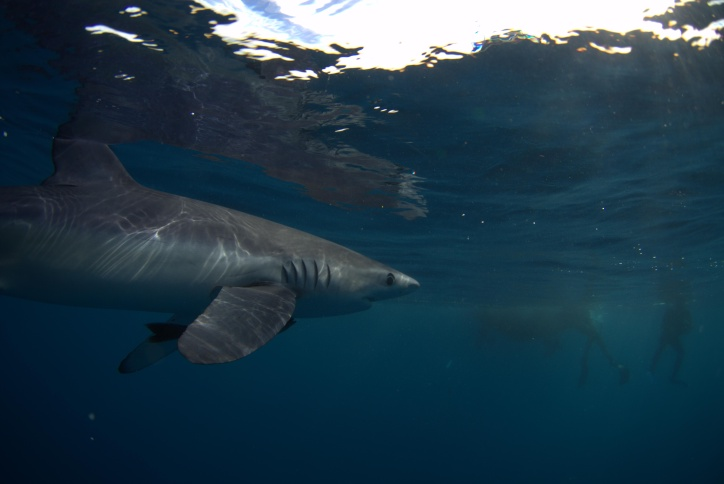Azul: (1, 141, 476, 388)
